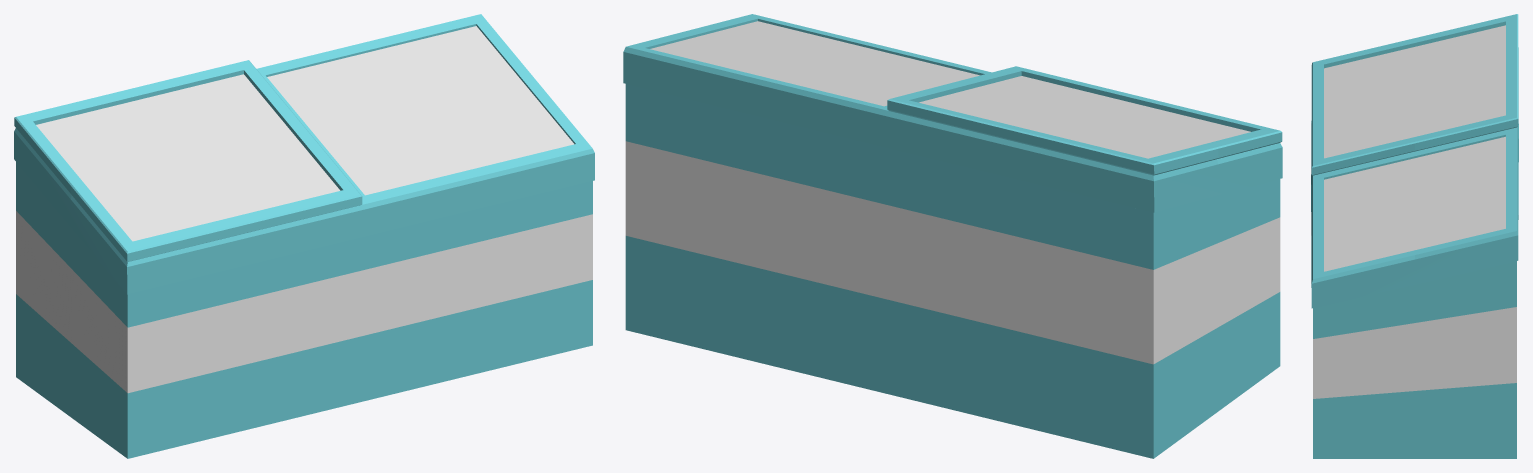
Rendered from Refrigerator.fbx.
3 views of the same model, side by side, from view 1: azimuth 30°, elevation 25°; view 2: azimuth 150°, elevation 25°; view 3: azimuth 270°, elevation 25° (orthographic). The views are drawn at different scales.
Parts seen in each view (by area): view 1: Refrigerator; view 2: Refrigerator; view 3: Refrigerator.
Part boxes in pixels (x1=…): Refrigerator: x1=14, y1=14, x2=594, y2=458; Refrigerator: x1=623, y1=14, x2=1282, y2=458; Refrigerator: x1=1311, y1=14, x2=1518, y2=458.
Size of the model in its own units: 2.37 by 0.9966 by 1.26.
